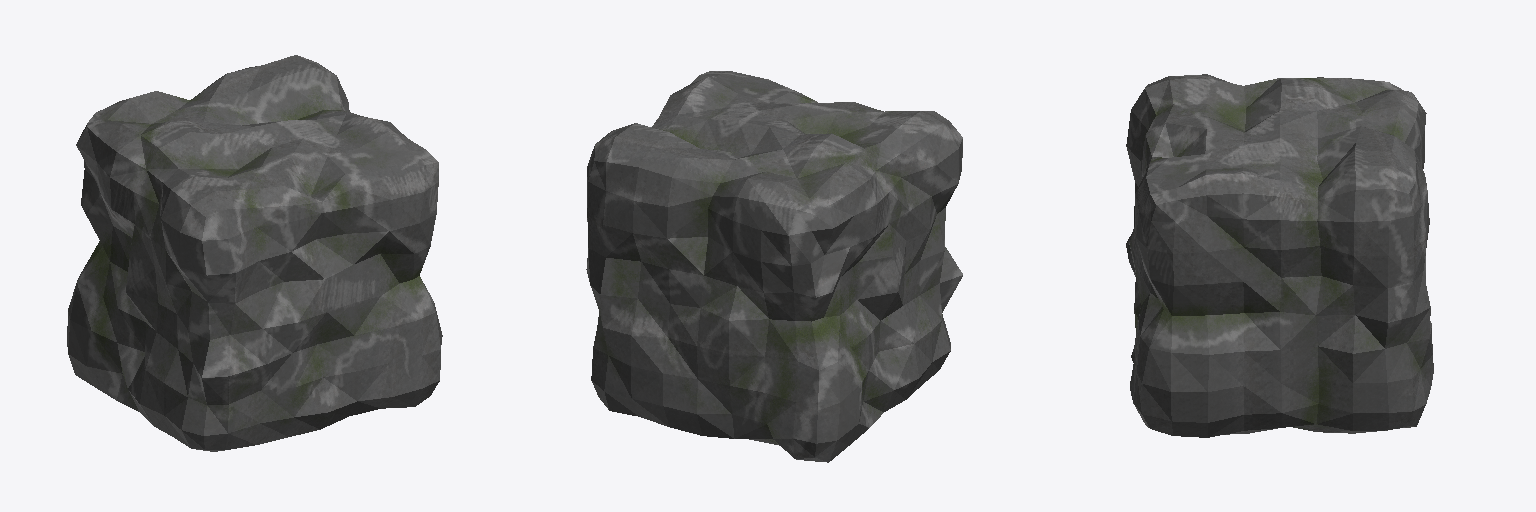
3 renders of one model, left to right at view 1: azimuth 30°, elevation 25°; view 2: azimuth 150°, elevation 25°; view 3: azimuth 270°, elevation 25°, orthographic.
Size of the model in its own units: 25.52 by 25.37 by 25.48.
Materials: 1 (1 with a texture image).